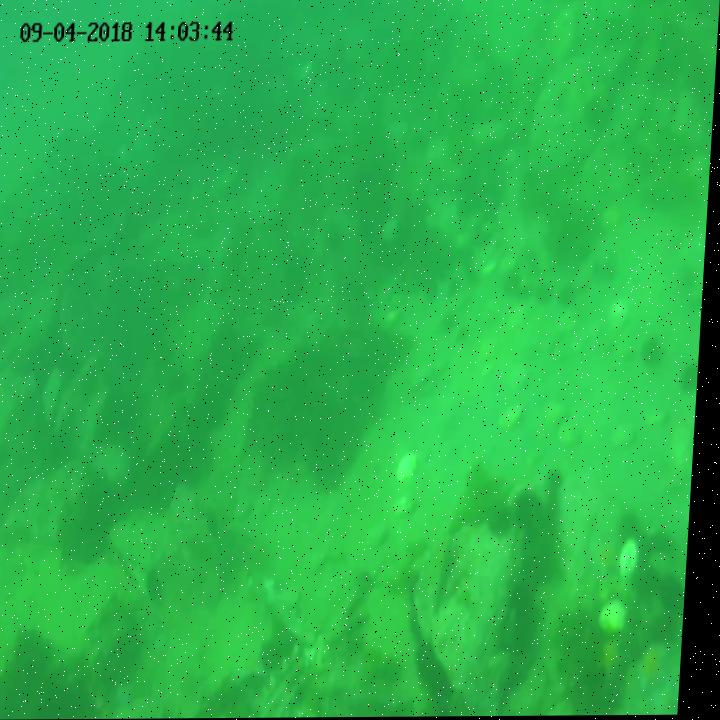echinus: (522, 488, 548, 529), (668, 572, 693, 613), (496, 503, 521, 537), (646, 566, 670, 599), (646, 339, 670, 368), (538, 281, 561, 308), (560, 283, 582, 309), (507, 275, 526, 299), (442, 313, 462, 332), (427, 282, 444, 303), (447, 280, 464, 301)
scallop: (43, 370, 70, 428), (605, 598, 635, 639), (623, 537, 645, 585), (402, 452, 424, 488), (505, 405, 529, 436), (615, 426, 642, 451), (561, 423, 585, 451), (550, 403, 574, 429), (374, 517, 396, 544), (400, 494, 424, 516)
